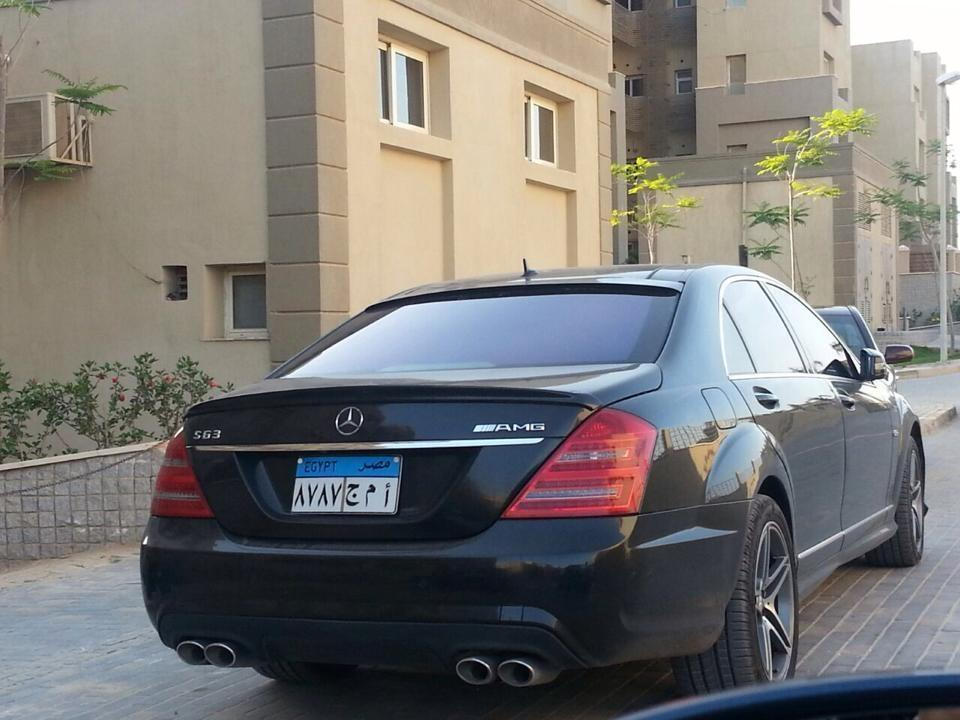7: (328, 479, 344, 506), (306, 481, 317, 506)
8: (293, 482, 306, 511), (318, 483, 329, 509)
License Plate: (287, 452, 407, 519)
Meem: (361, 480, 377, 508)
alef: (379, 480, 392, 509)
car: (133, 270, 929, 686)
geem: (345, 481, 362, 509)
